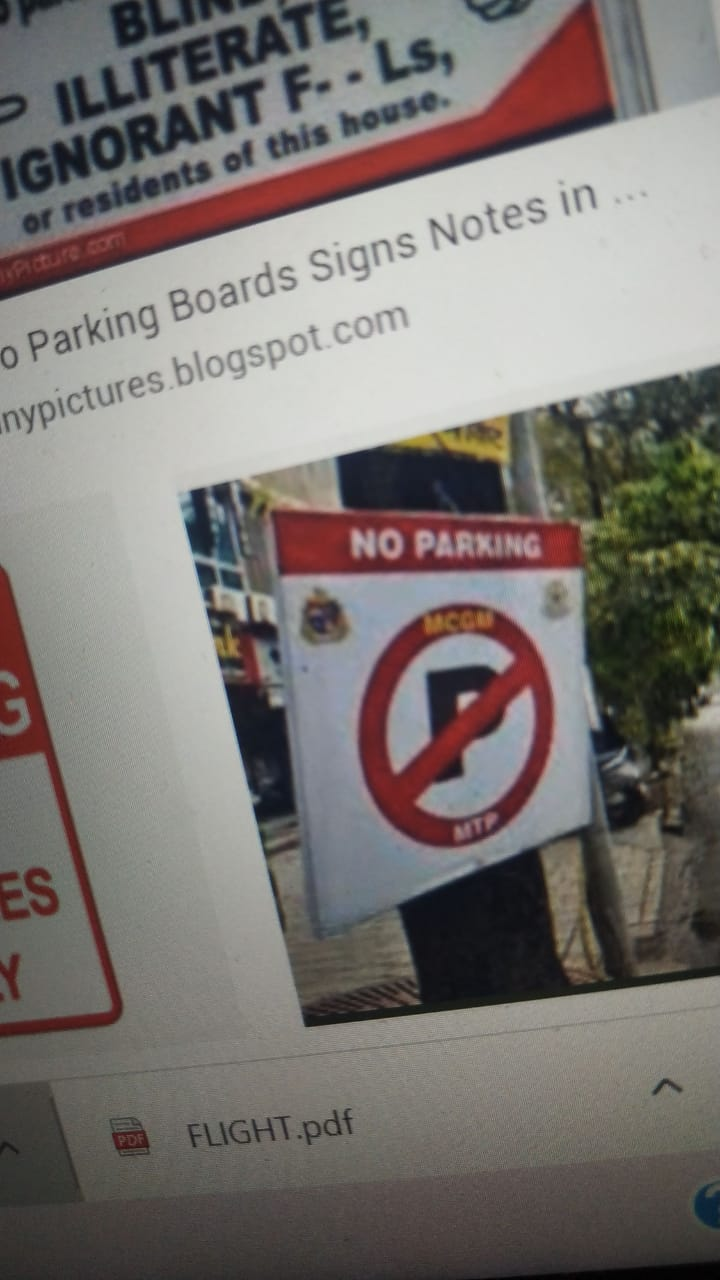NO PARKING: (341, 587, 586, 842)
